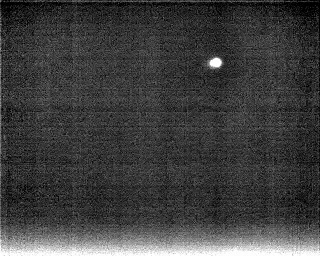AIRPLANE: (206, 54, 225, 72)
